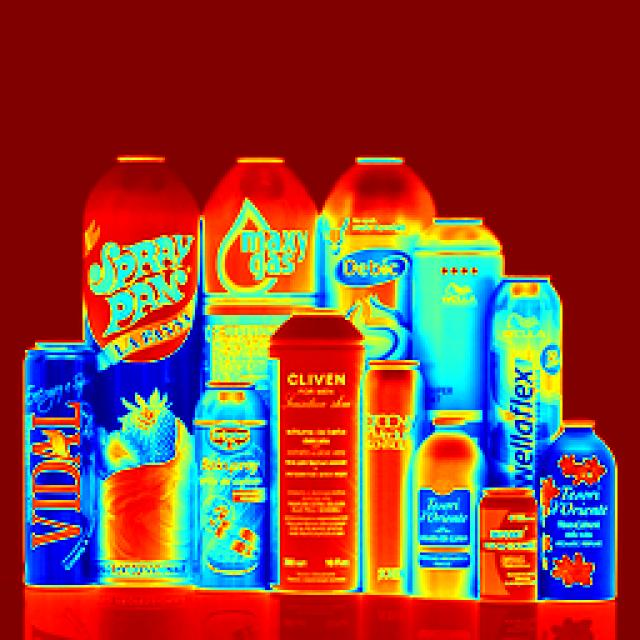Aerosol Cans: (79, 141, 201, 583), (274, 291, 363, 592), (15, 334, 98, 596), (535, 410, 626, 622), (192, 380, 276, 604), (416, 405, 493, 608)
